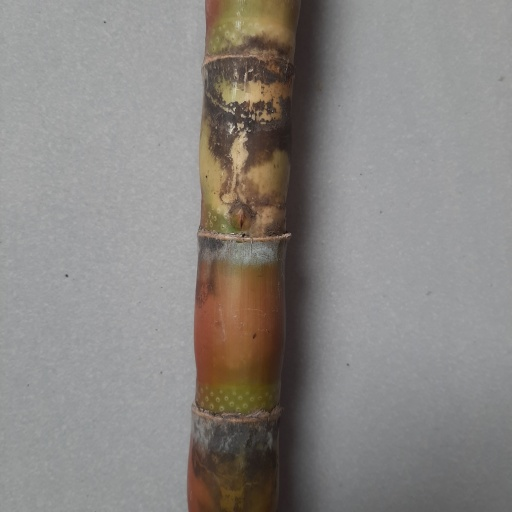Bud: (228, 202, 253, 235)
